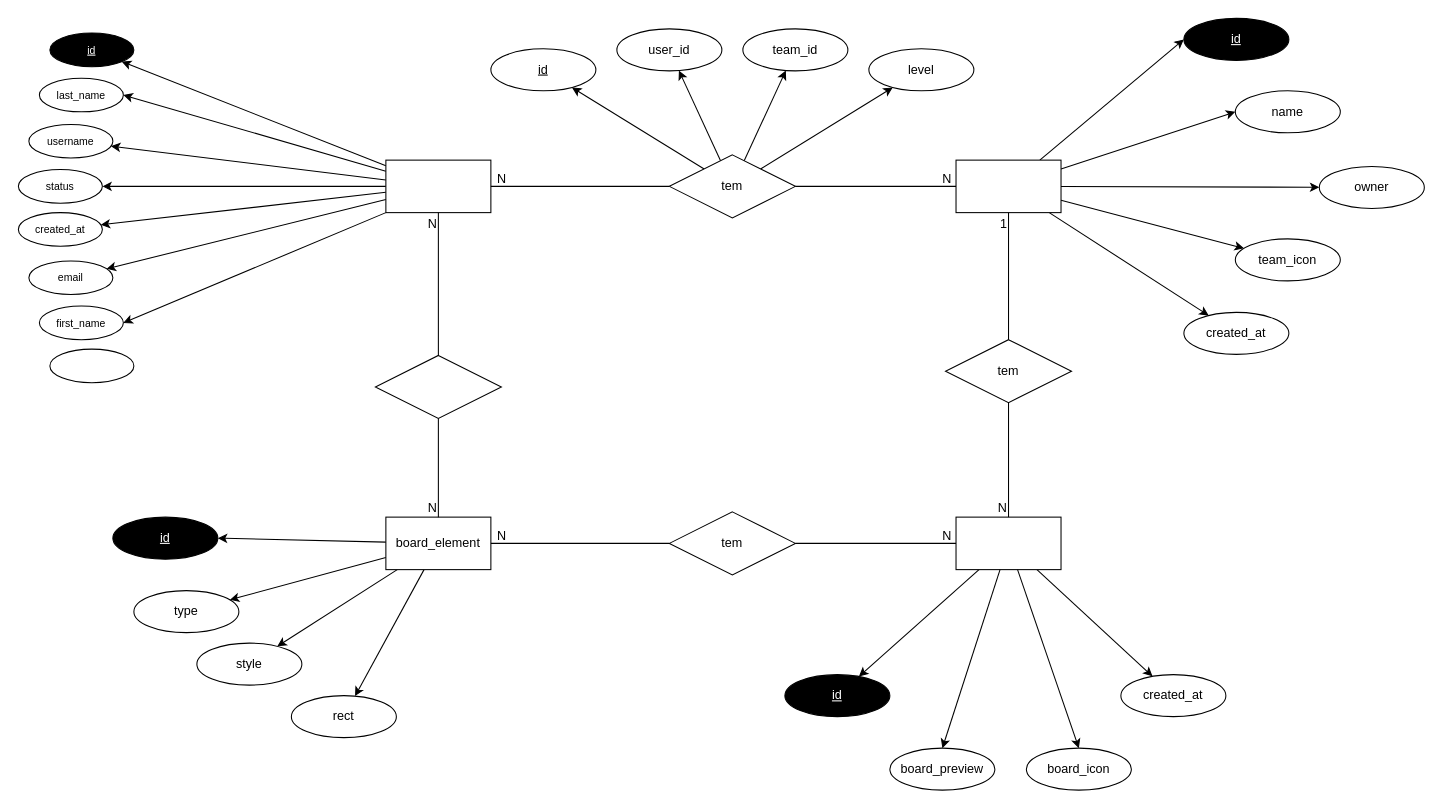
Image size: 1443x808. Some labels were removed from this diagram. The centre of each missing label's shape, as x and y in pixels:
"board" goes at point 1008,543.
"desenha" goes at point 437,386.
"profile_picture" goes at point 91,365.
"team" goes at point 1008,186.
"user" goes at point 438,186.
